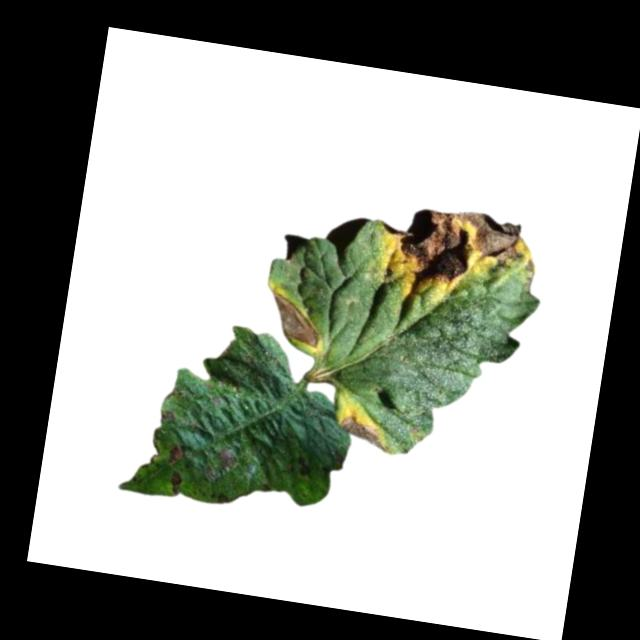Early_blight: (370, 195, 532, 315), (260, 288, 332, 352), (330, 410, 397, 454), (211, 445, 240, 472), (164, 446, 190, 472), (166, 472, 183, 497), (158, 409, 180, 425)
